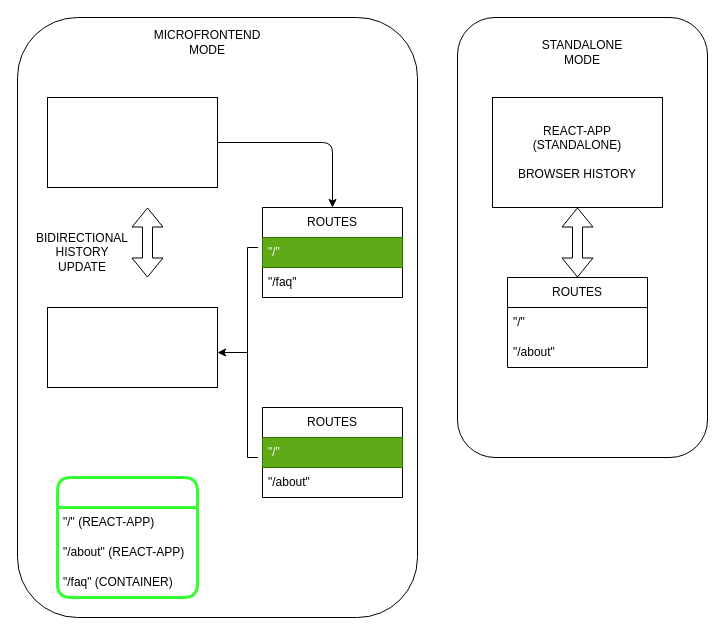
Image size: 725x635. Some labels were removed from this diagram. Here are the shapes that lost their labels. From the top down, the box of each, then its label:
(46, 96, 218, 188): CONTAINER BROWSER HISTORY
(46, 306, 218, 388): REACT-APP MEMORY HISTORY
(56, 476, 198, 598): ROUTES MFE
